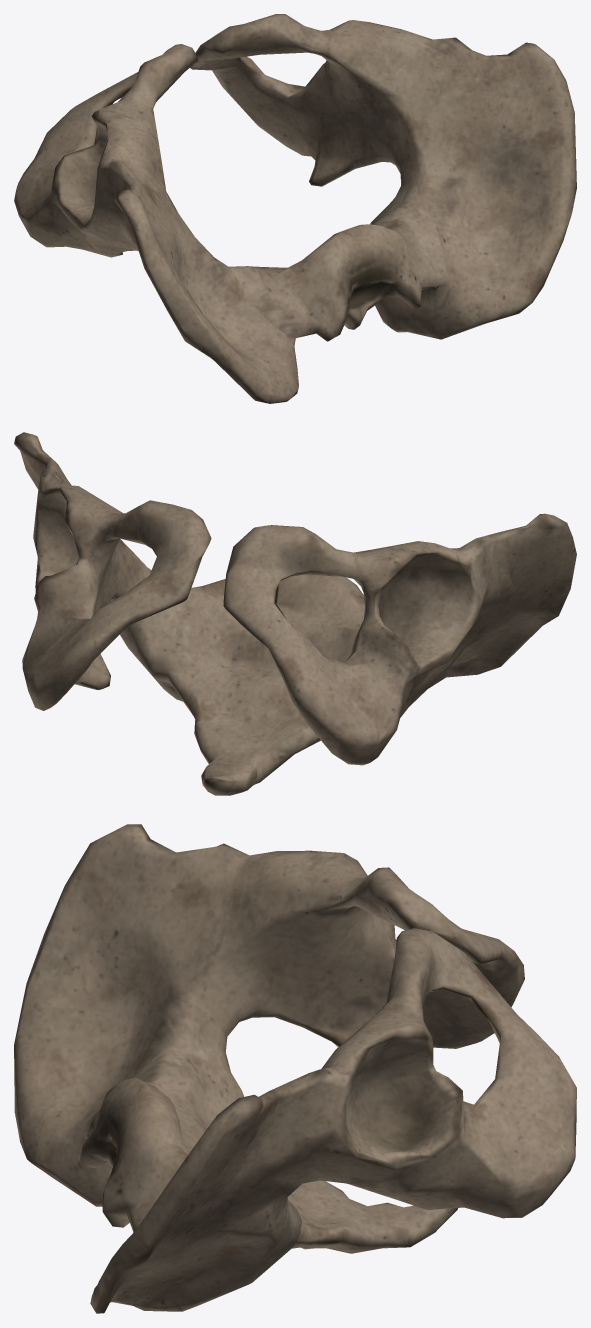
File: sm_Skeleton_01_03.fbx
The picture shows the model from 3 angles, top to bottom: view 1: azimuth 30°, elevation 25°; view 2: azimuth 150°, elevation 25°; view 3: azimuth 270°, elevation 25°; orthographic projection. The views are drawn at different scales.
Parts seen in each view (by area): view 1: sm_Skeleton_01_03_LOD0; view 2: sm_Skeleton_01_03_LOD0; view 3: sm_Skeleton_01_03_LOD0.
Part boxes in pixels (<box>): sm_Skeleton_01_03_LOD0: <box>14,14,576,403</box>; sm_Skeleton_01_03_LOD0: <box>14,432,576,795</box>; sm_Skeleton_01_03_LOD0: <box>14,824,576,1313</box>.
Bounding box in the file's own units: 32.63 × 26.29 × 17.23.
